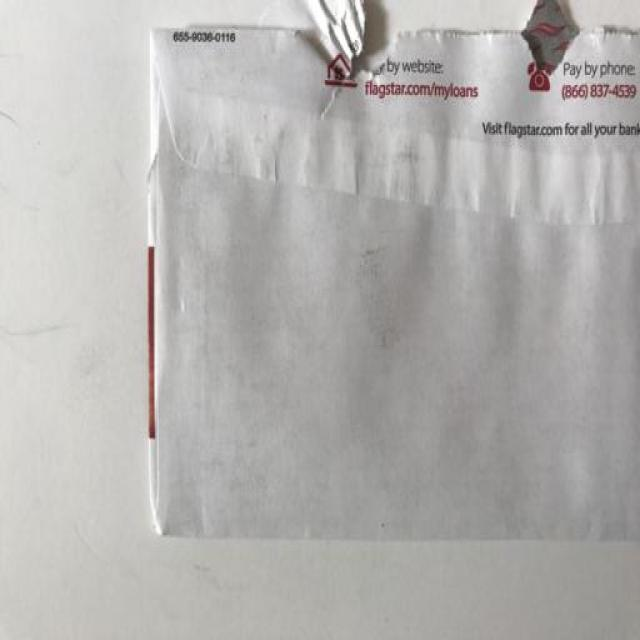paper: (132, 10, 640, 580)
